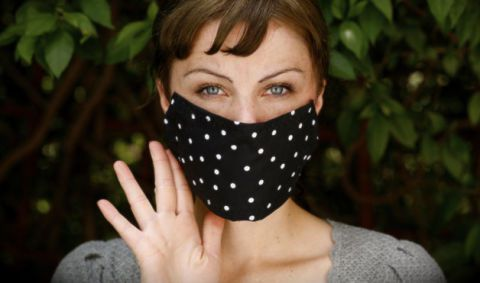mask: (164, 103, 321, 220)
